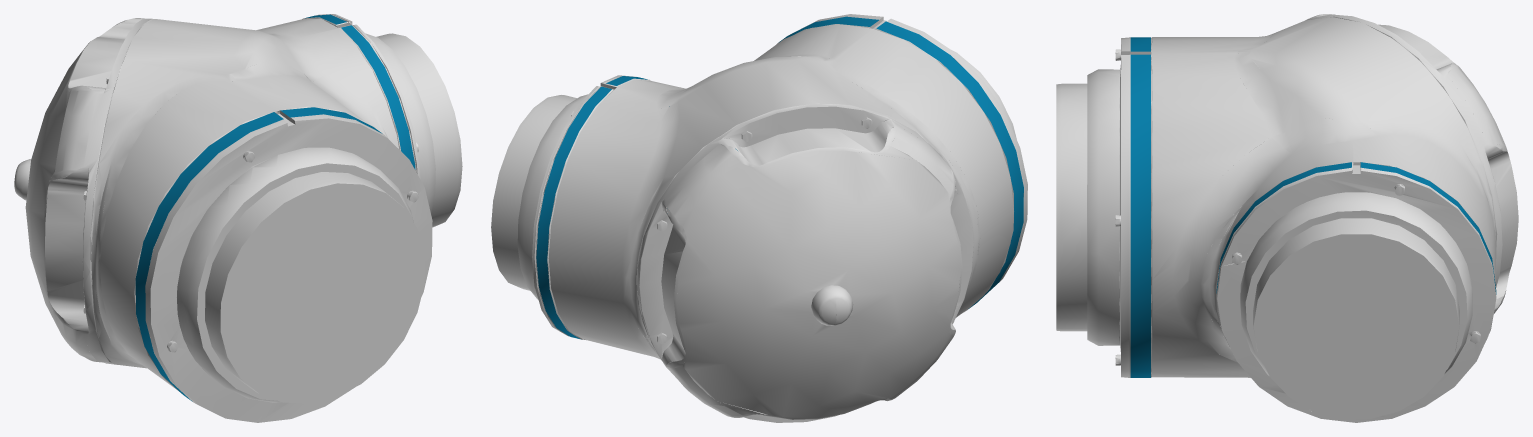
3 views of the same model, side by side, from view 1: azimuth 30°, elevation 25°; view 2: azimuth 150°, elevation 25°; view 3: azimuth 270°, elevation 25° (orthographic). The views are drawn at different scales.
Parts seen in each view (by area): view 1: f_1-06vxhc20-b1_lk3; view 2: f_1-06vxhc20-b1_lk3; view 3: f_1-06vxhc20-b1_lk3.
Boxes of the visible parts, x1,y1,x2,y2 form: f_1-06vxhc20-b1_lk3: [14, 14, 462, 422]; f_1-06vxhc20-b1_lk3: [491, 14, 1027, 422]; f_1-06vxhc20-b1_lk3: [1056, 14, 1518, 422].
Size of the model in its own units: 0.3254 by 0.3174 by 0.248.
